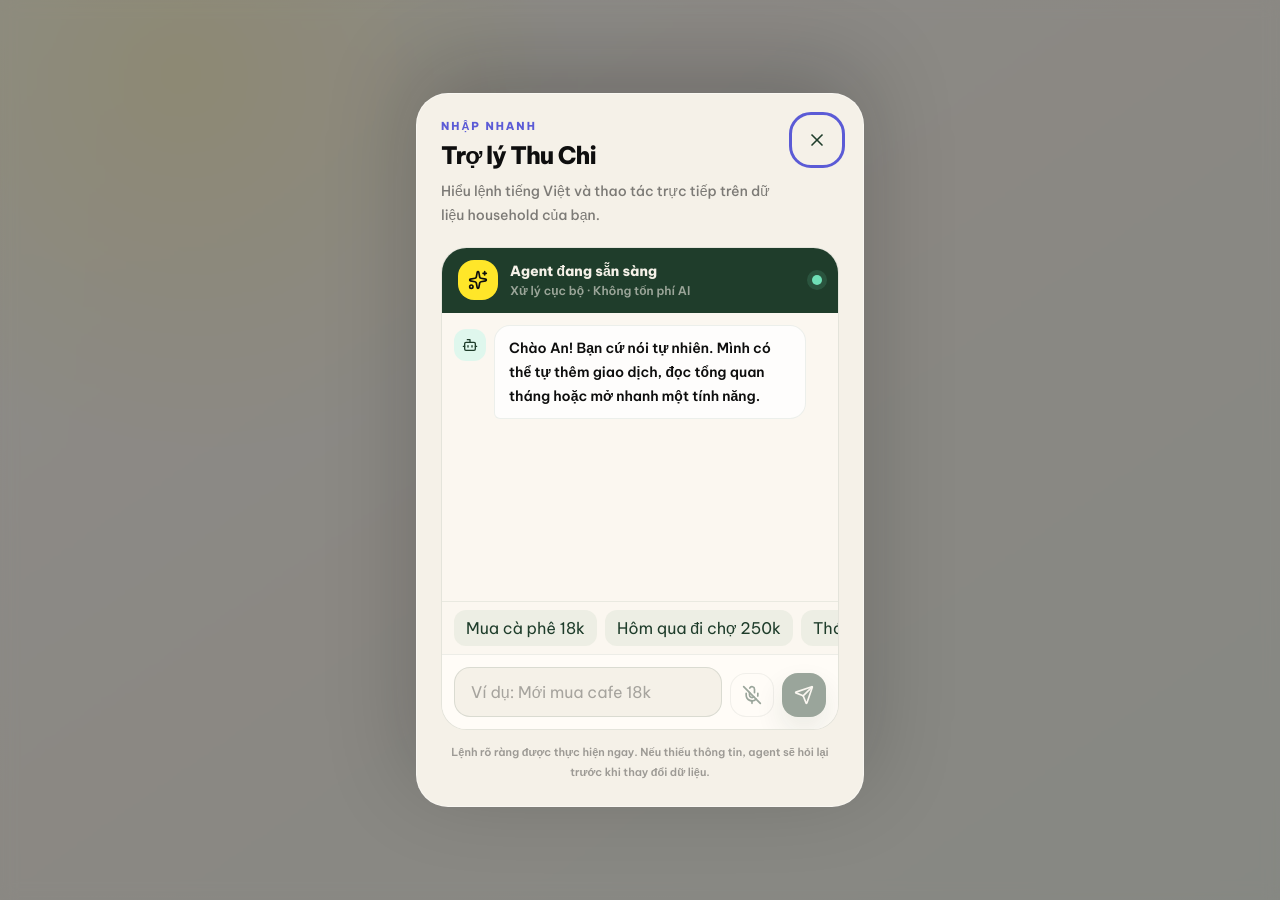
Test: AssistantChat › tự tạo giao dịch từ câu tiếng Việt rõ ràng
Click the button "Mua cà phê 18k" at coordinates (526, 628), box [454,610,597,646]
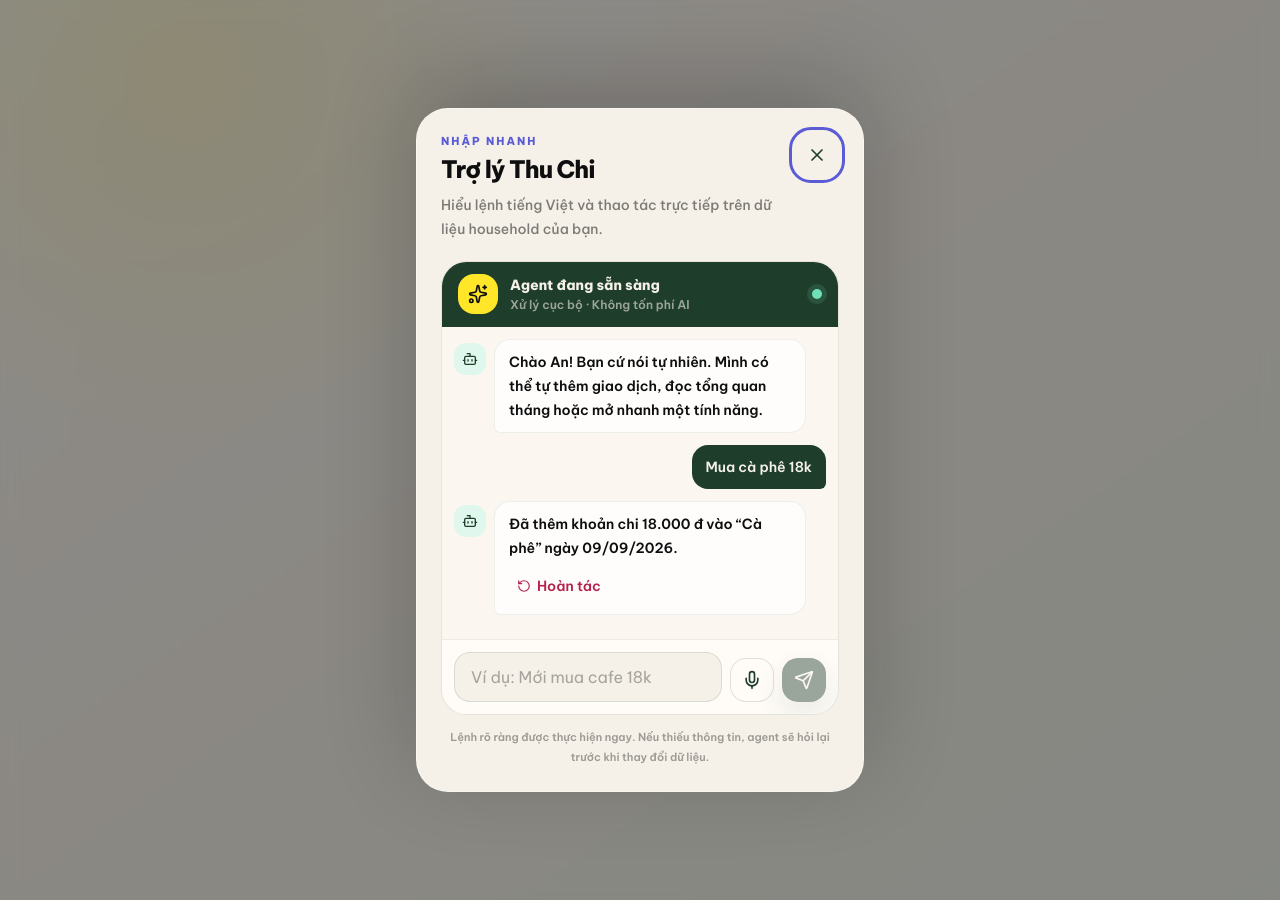
Expected: the text "Đã thêm khoản chi 18.000 đ vào “Cà phê” ngày 09/09/2026." is shown, [509,512,792,560]
Expected: the button "Hoàn tác" is shown, [509,568,609,604]
